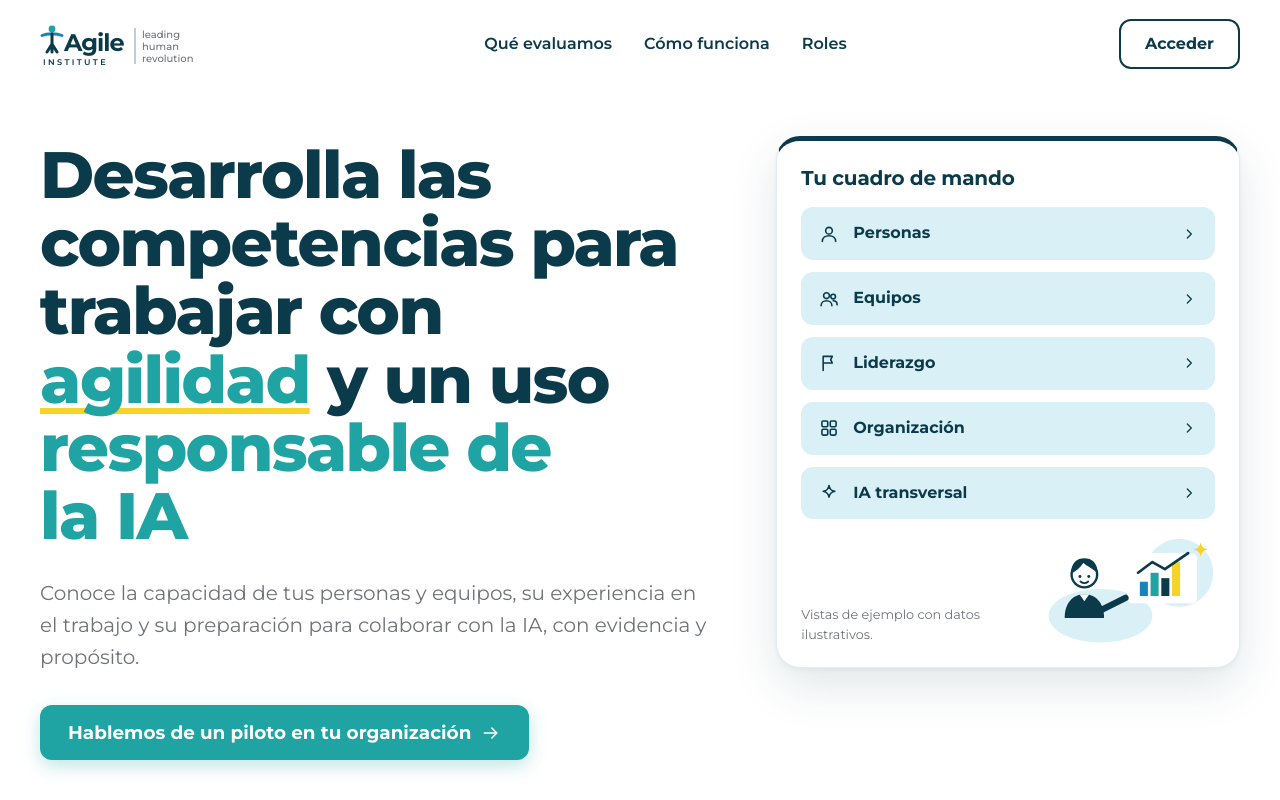
Test: Landing › valida el formulario de piloto antes de enviarlo
This screenshot has width=1280, height=800.
Click the button "Hablemos de un piloto en tu organización" at coordinates (285, 733), box [40,705,529,760]
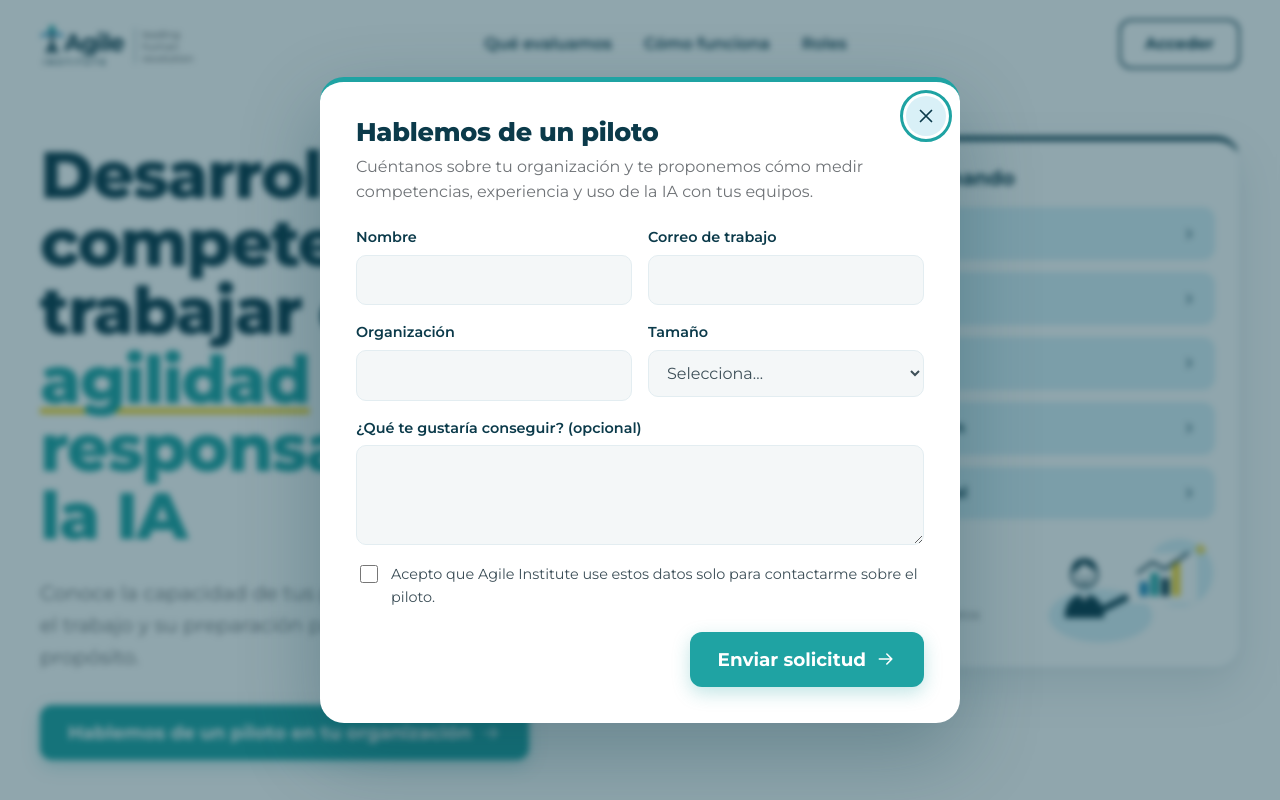
Click the button "Enviar solicitud" at coordinates (807, 659), box [690,632,924,687]
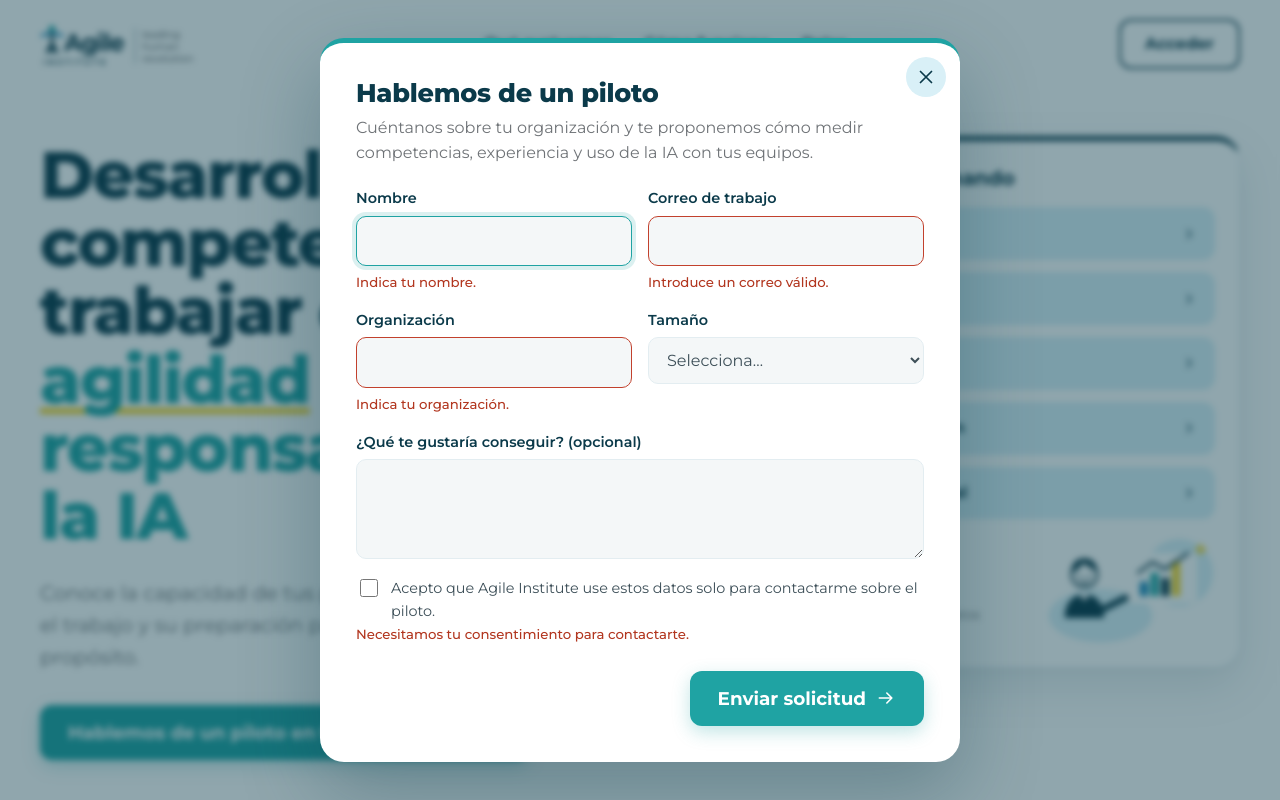
Expected: the text "Indica tu nombre." is shown, [356,274,476,290]
Expected: the text "Necesitamos tu consentimiento para contactarte." is shown, [356,626,689,642]
